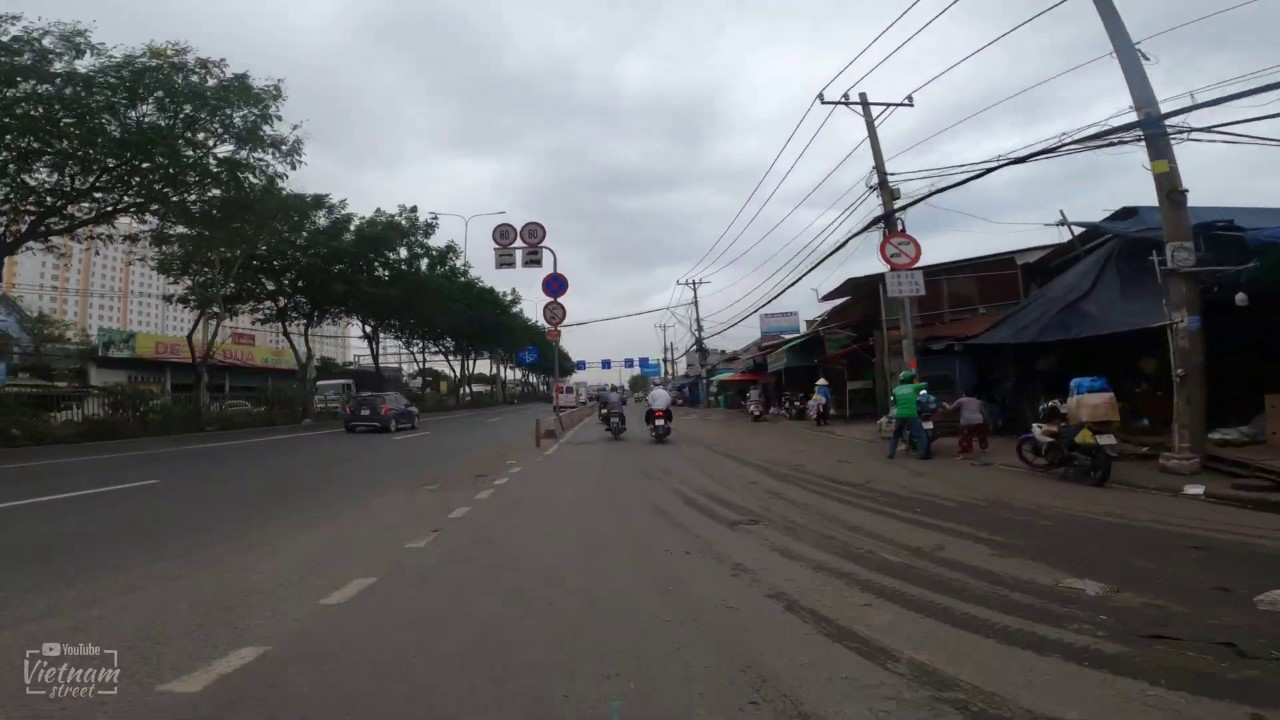gioi_han_60km: (519, 221, 547, 247)
gioi_han_80km: (491, 221, 518, 247)
